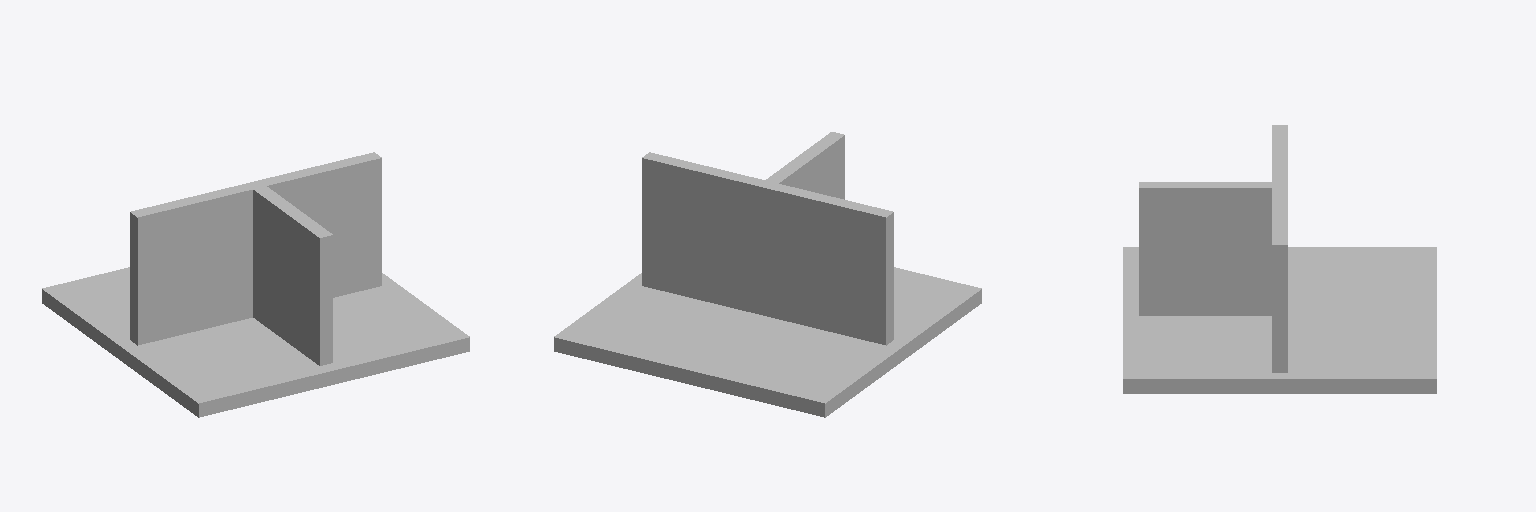
File: floor_corner.obj
3 views of the same model, side by side, from view 1: azimuth 30°, elevation 25°; view 2: azimuth 150°, elevation 25°; view 3: azimuth 270°, elevation 25° (orthographic).
Parts seen in each view (by area): view 1: floor_corner; view 2: floor_corner; view 3: floor_corner.
Boxes of the visible parts, x1,y1,x2,y2 form: floor_corner: [42, 152, 469, 417]; floor_corner: [554, 132, 981, 417]; floor_corner: [1123, 125, 1436, 393].
Size of the model in its own units: 40 by 20 by 40.